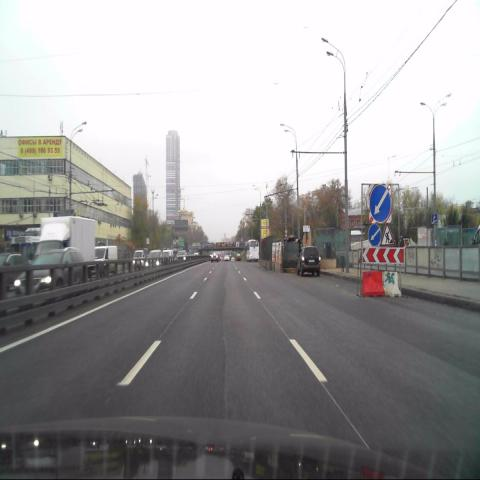4_2_2: (368, 224, 380, 247)
